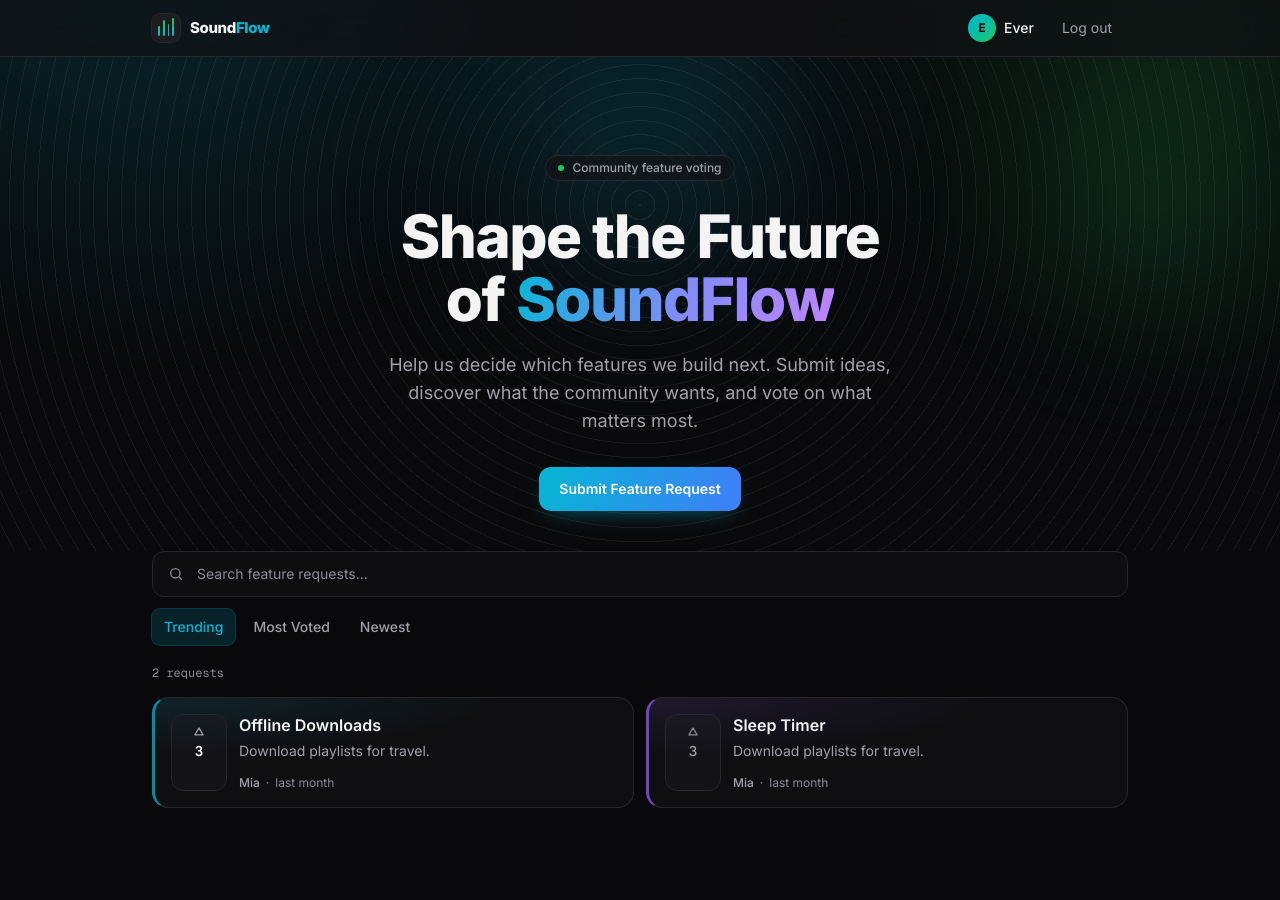
Test case: accessibility (axe) › the submission form has no detectable a11y violations
expect the heading "Offline Downloads" is shown: met, box [239,715,381,735]
Click the button "Submit Feature Request": point(640, 489) [539,467,741,511]
(page scrolled)
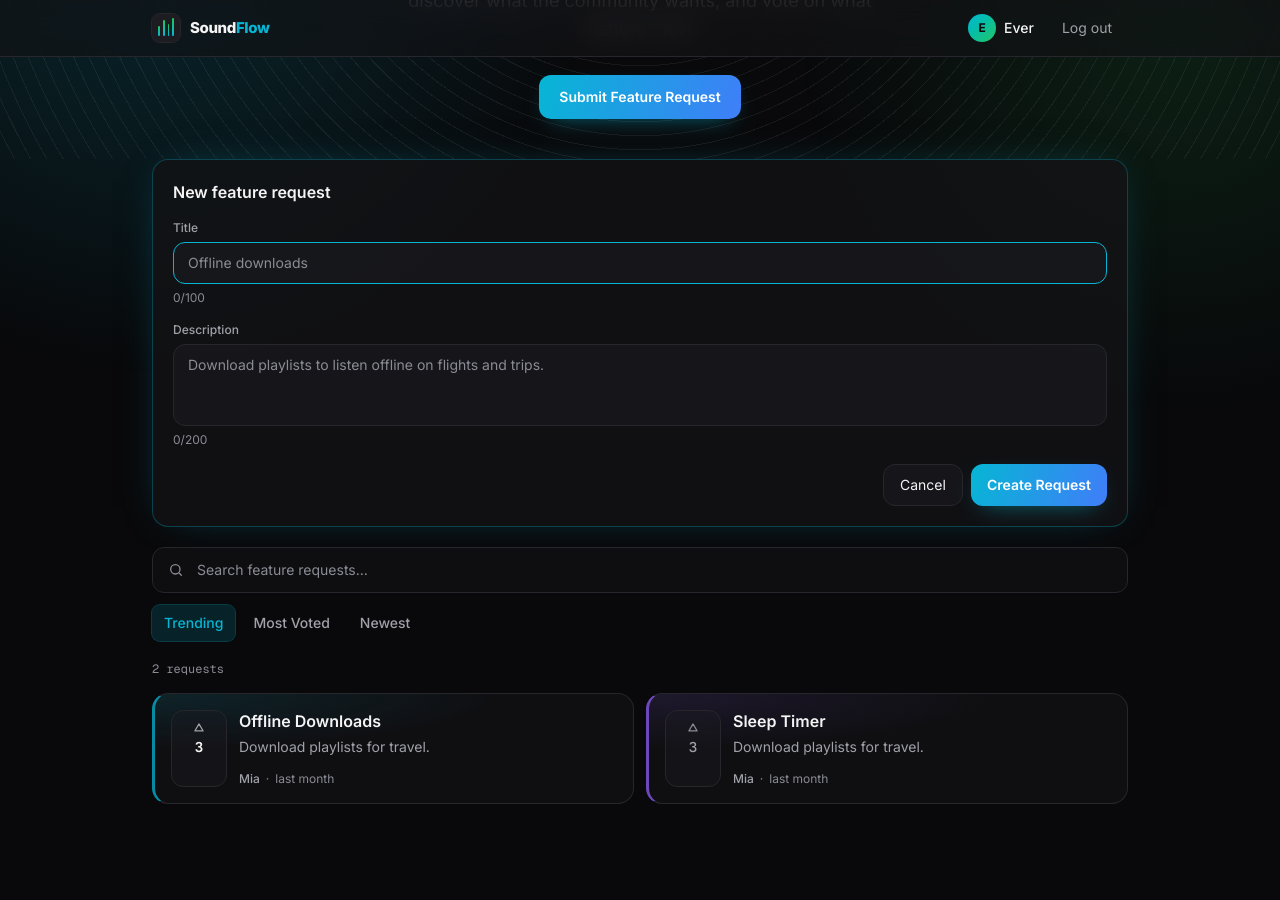
expect the field labelled "Title" is shown: met, box [173,242,1107,284]
